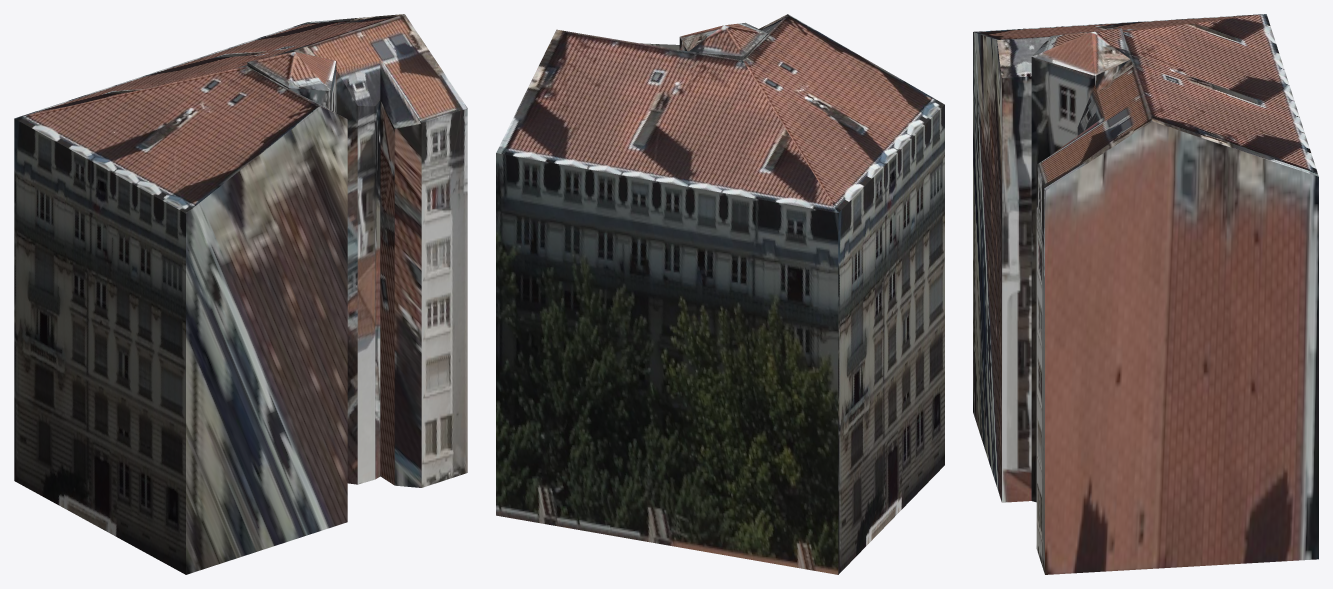
The picture shows the model from 3 angles, left to right: view 1: azimuth 30°, elevation 25°; view 2: azimuth 150°, elevation 25°; view 3: azimuth 270°, elevation 25°; orthographic projection. The views are drawn at different scales.
Visible parts, largest first — view 1: Z_UP; view 2: Z_UP; view 3: Z_UP.
Part boxes in pixels (bbox=[...]): Z_UP: bbox=[14, 14, 467, 574]; Z_UP: bbox=[496, 14, 944, 574]; Z_UP: bbox=[973, 14, 1318, 574].
Bounding box in the file's own units: 23.34 × 28.27 × 19.04.
2 materials, 1 textured.
